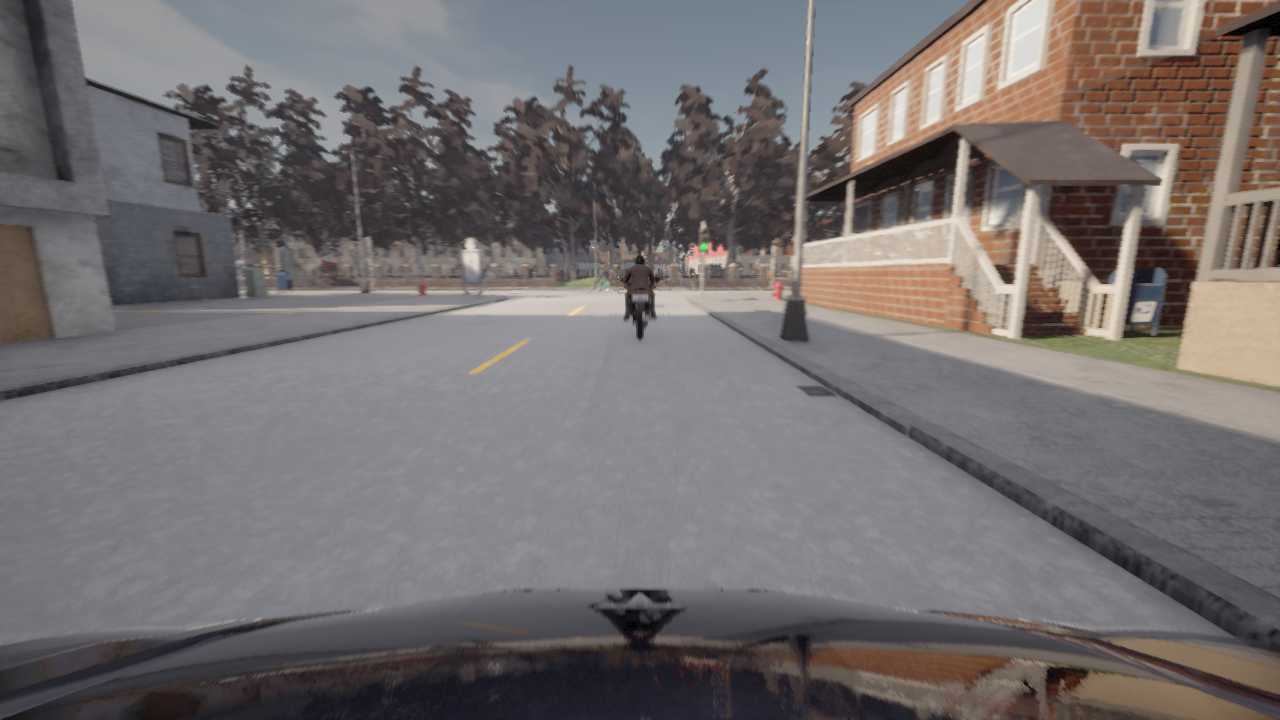cyclist: (0, 588, 1279, 719), (620, 279, 659, 340), (596, 274, 612, 293)
pedestrian: (680, 272, 682, 287)
